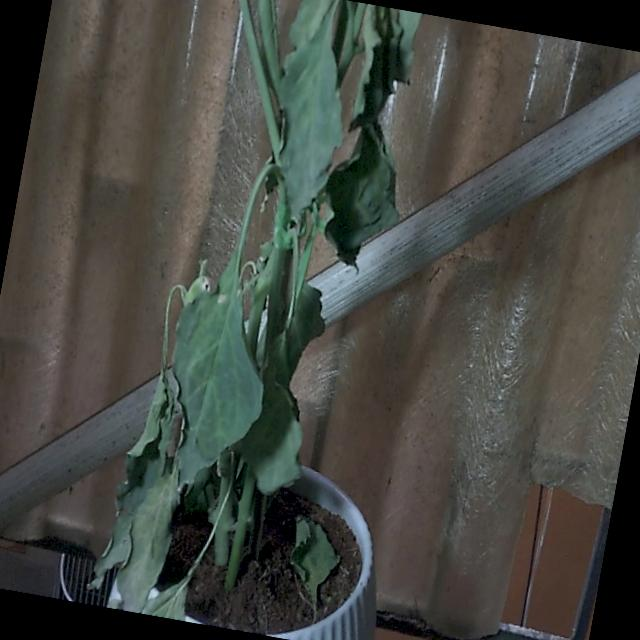Leaf: (173, 263, 262, 464), (278, 12, 341, 216), (324, 125, 397, 264), (116, 471, 178, 611), (289, 518, 339, 605)
